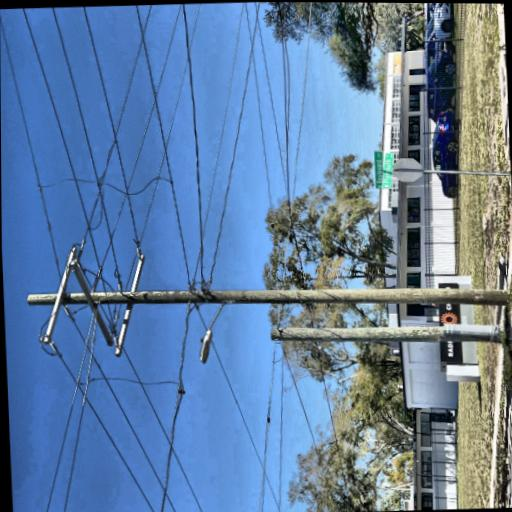pole: (70, 142, 116, 512)
street light: (37, 333, 98, 381)
